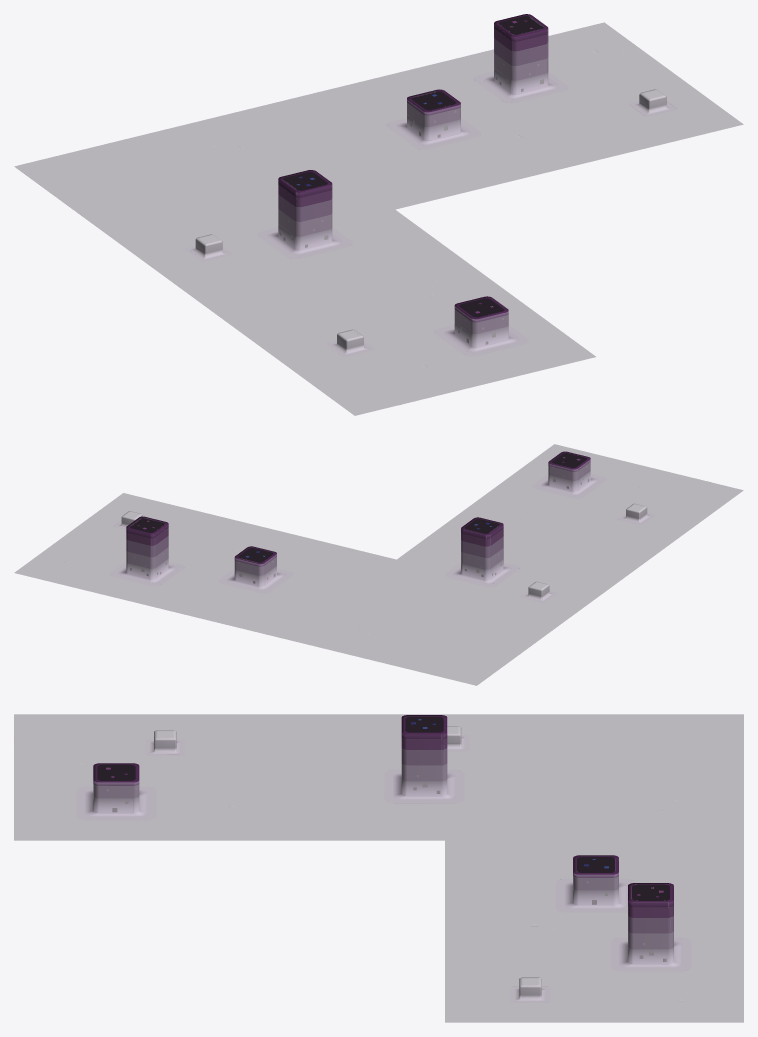
File: C_special1_out_RD.fbx
The picture shows the model from 3 angles, top to bottom: view 1: azimuth 30°, elevation 25°; view 2: azimuth 150°, elevation 25°; view 3: azimuth 270°, elevation 25°; orthographic projection. The views are drawn at different scales.
Parts seen in each view (by area): view 1: C_special1_out_RD.001; view 2: C_special1_out_RD.001; view 3: C_special1_out_RD.001.
Part boxes in pixels (<box>): C_special1_out_RD.001: <box>14,14,743,415</box>; C_special1_out_RD.001: <box>14,444,743,685</box>; C_special1_out_RD.001: <box>14,714,743,1022</box>.
Size of the model in its own units: 127 by 12.34 by 127.
